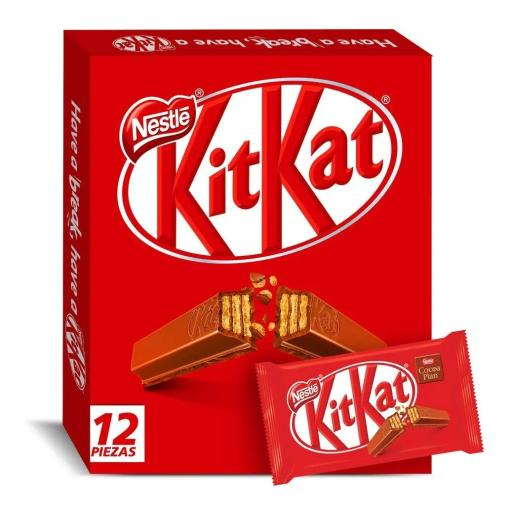kitkat: (254, 339, 505, 474)
